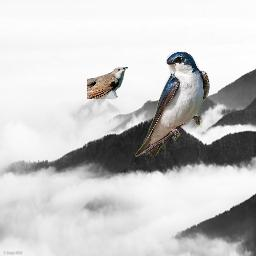Cuckoo: (87, 67, 128, 99)
Swallow: (135, 50, 210, 157)
